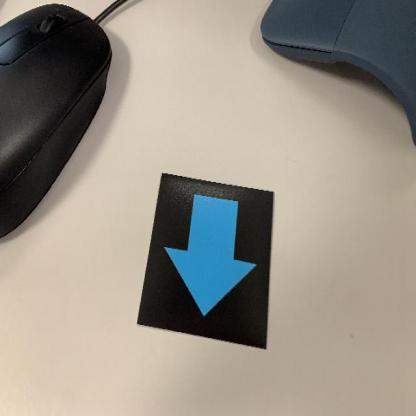down: (136, 171, 281, 353)
